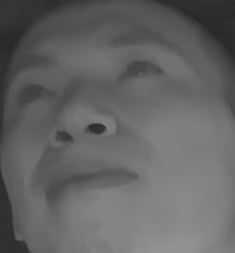eye: (108, 55, 167, 85), (9, 77, 58, 106)
